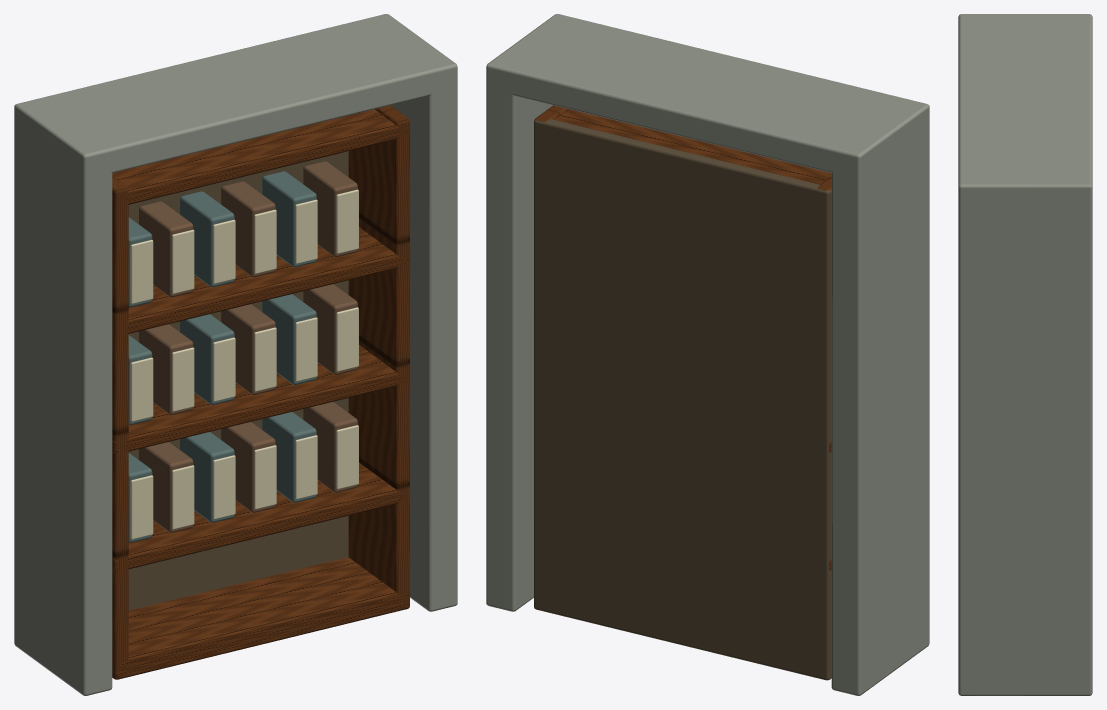
The model's file is undercity-sewers-and-thieves-den-hidden-door-bookcase-777cafc3__27242.glb.
3 views of the same model, side by side, from view 1: azimuth 30°, elevation 25°; view 2: azimuth 150°, elevation 25°; view 3: azimuth 270°, elevation 25° (orthographic). The views are drawn at different scales.
Visible parts, largest first — view 1: bookcase-door (×5), hidden-door-bookcase; view 2: bookcase-door (×2), hidden-door-bookcase; view 3: hidden-door-bookcase.
Boxes of the visible parts, box(x1,y1,x2,y2) form: bookcase-door (×5): box(112, 105, 409, 679); hidden-door-bookcase: box(14, 14, 457, 695); bookcase-door (×2): box(534, 105, 831, 680); hidden-door-bookcase: box(486, 14, 929, 695); hidden-door-bookcase: box(958, 14, 1092, 695).
Bounding box in the file's own units: 1.52 × 2.1 × 0.4999.
6 materials, 1 textured.
